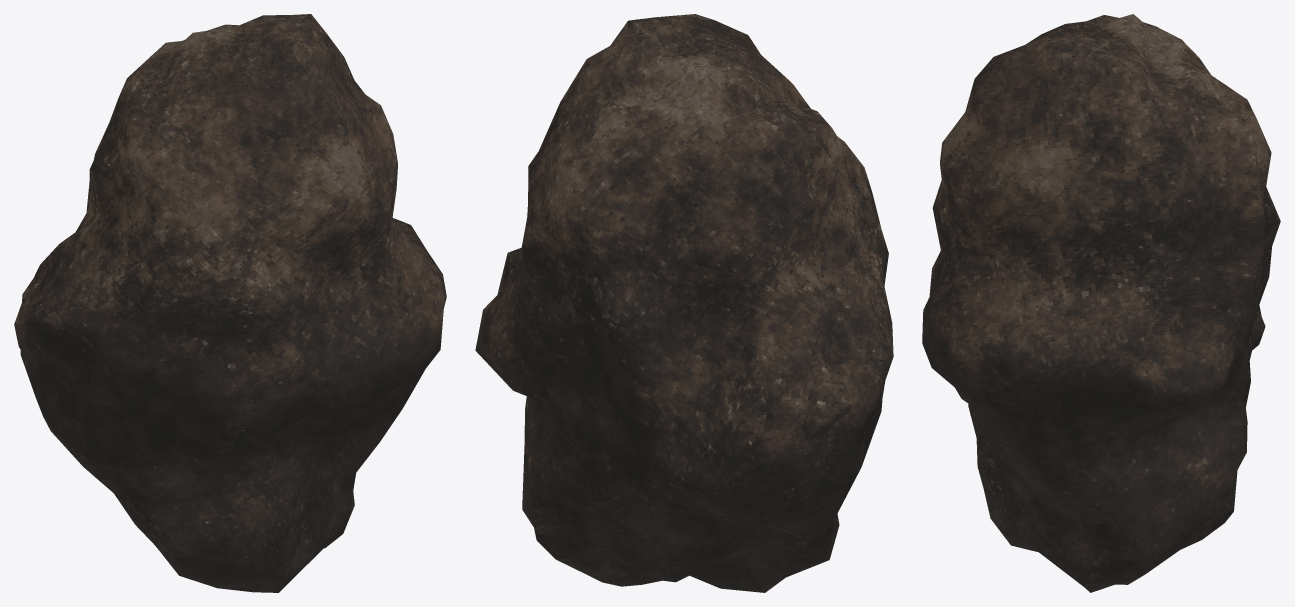
The model's file is SM_RP2_Rock_8m_5.001.glb.
3 views of the same model, side by side, from view 1: azimuth 30°, elevation 25°; view 2: azimuth 150°, elevation 25°; view 3: azimuth 270°, elevation 25° (orthographic). The views are drawn at different scales.
Parts seen in each view (by area): view 1: SM_RP2_Rock_8m_5.001; view 2: SM_RP2_Rock_8m_5.001; view 3: SM_RP2_Rock_8m_5.001.
Boxes of the visible parts, x1,y1,x2,y2 form: SM_RP2_Rock_8m_5.001: (14,14,446,592); SM_RP2_Rock_8m_5.001: (475,14,893,592); SM_RP2_Rock_8m_5.001: (922,14,1280,592).
Bounding box in the file's own units: 9.17 × 12.6 × 7.66.
1 material, 1 textured.
